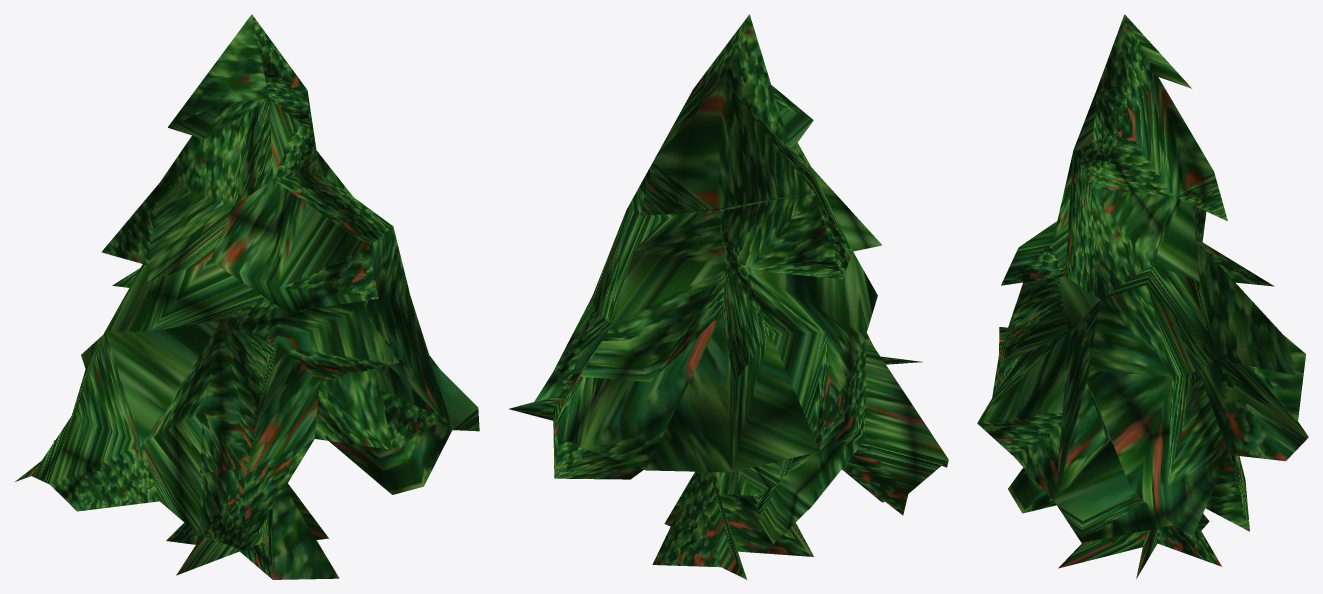
File: tree-fir-wide-lod.glb
The picture shows the model from 3 angles, left to right: view 1: azimuth 30°, elevation 25°; view 2: azimuth 150°, elevation 25°; view 3: azimuth 270°, elevation 25°; orthographic projection. The views are drawn at different scales.
Visible parts, largest first — view 1: tree-fir-wide-lod; view 2: tree-fir-wide-lod; view 3: tree-fir-wide-lod.
Part boxes in pixels (<box>): tree-fir-wide-lod: <box>15,14,479,579</box>; tree-fir-wide-lod: <box>509,14,948,579</box>; tree-fir-wide-lod: <box>977,14,1308,578</box>.
Bounding box in the file's own units: 11.15 × 13.93 × 7.9.
1 material, 1 textured.
